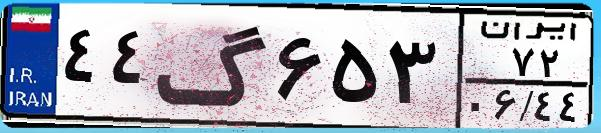0: (470, 70, 495, 125)
2: (537, 27, 568, 80)
3: (385, 28, 445, 110)
4: (57, 26, 110, 100), (110, 28, 156, 98), (560, 70, 590, 125), (535, 70, 560, 125)
5: (330, 28, 385, 110)
6: (270, 28, 330, 110), (495, 70, 520, 125)
7: (508, 27, 537, 80)
گ: (156, 12, 270, 120)
